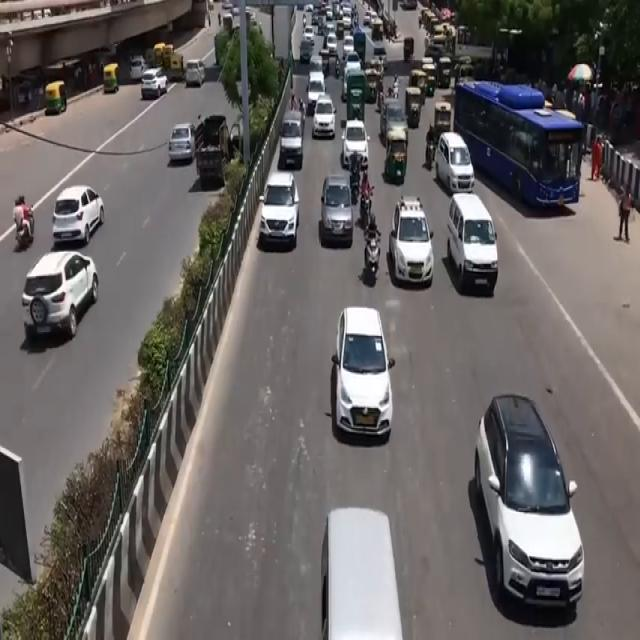BUS: (454, 75, 581, 220)
MOTORCYCLE: (13, 203, 33, 251), (364, 236, 380, 290), (360, 185, 372, 229)
TRUCK: (196, 115, 231, 190)
